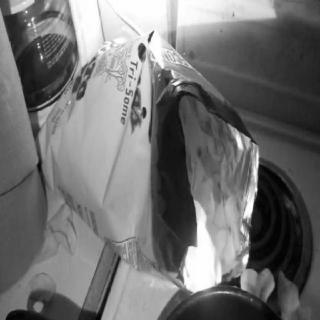Fire: (180, 200, 226, 296)
